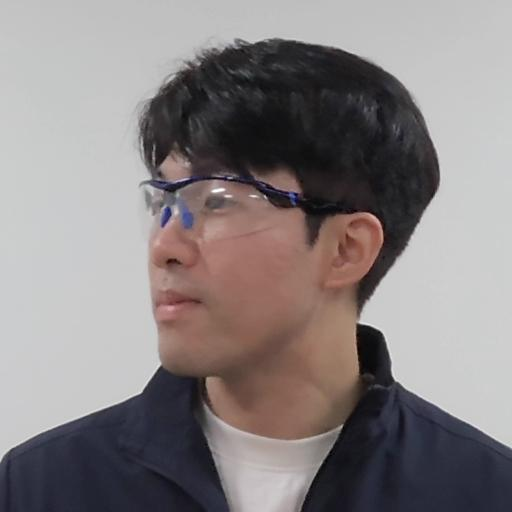glasses: (127, 30, 446, 407)
